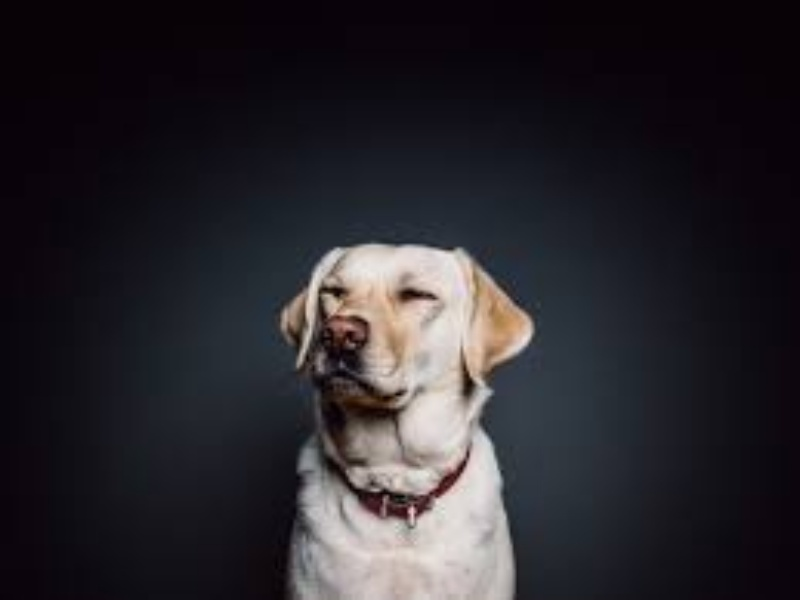dog: (280, 243, 531, 591)
